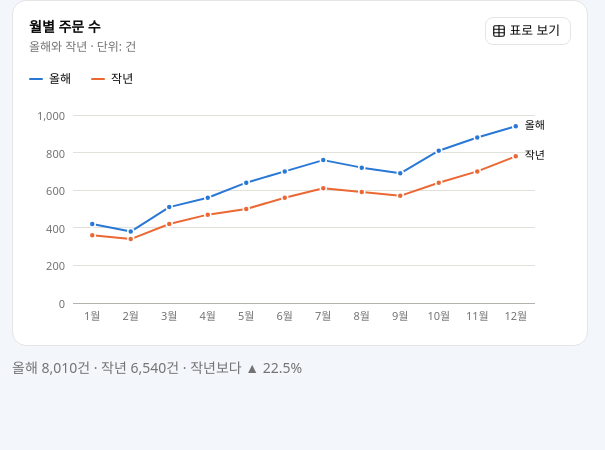
Scenario: entry › 선 차트: has a title, a hidden summary and a table view
The image size is (605, 450).
Click the button "표로 보기" at (528, 31), box [485,17,571,45]
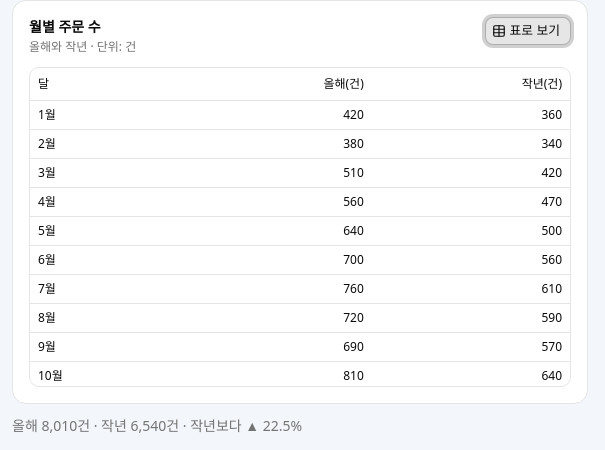
Expected: the table named "." is shown
